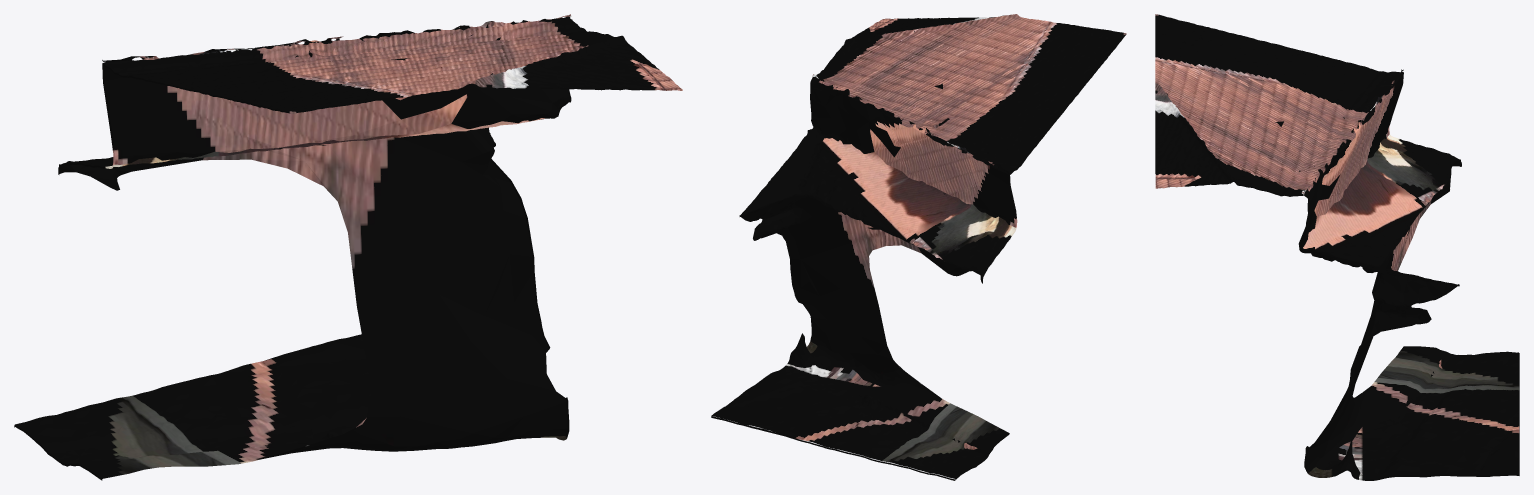
The picture shows the model from 3 angles, left to right: view 1: azimuth 30°, elevation 25°; view 2: azimuth 150°, elevation 25°; view 3: azimuth 270°, elevation 25°; orthographic projection. The views are drawn at different scales.
Visible parts, largest first — view 1: node_141; view 2: node_141; view 3: node_141.
Part boxes in pixels (x1=…): node_141: x1=14, y1=14, x2=682, y2=480; node_141: x1=711, y1=14, x2=1126, y2=480; node_141: x1=1155, y1=14, x2=1519, y2=480.
Size of the model in its own units: 9 by 11.4 by 11.
Materials: 1 (1 with a texture image).
